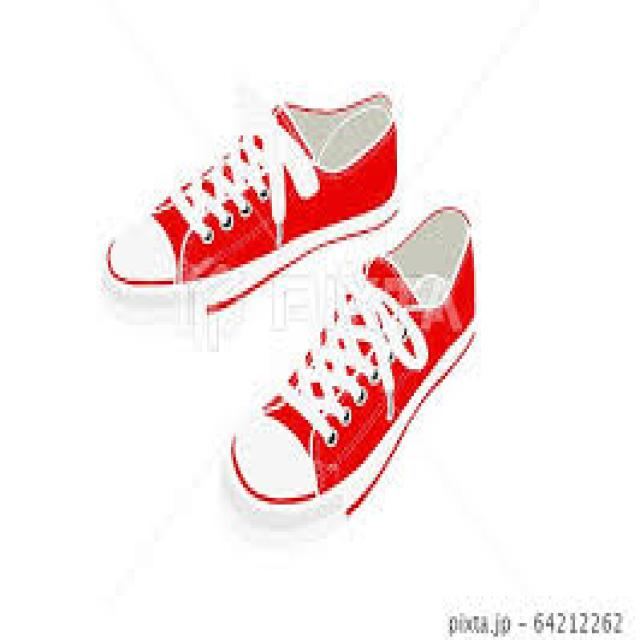shoe: (230, 195, 494, 546), (95, 92, 405, 322)
